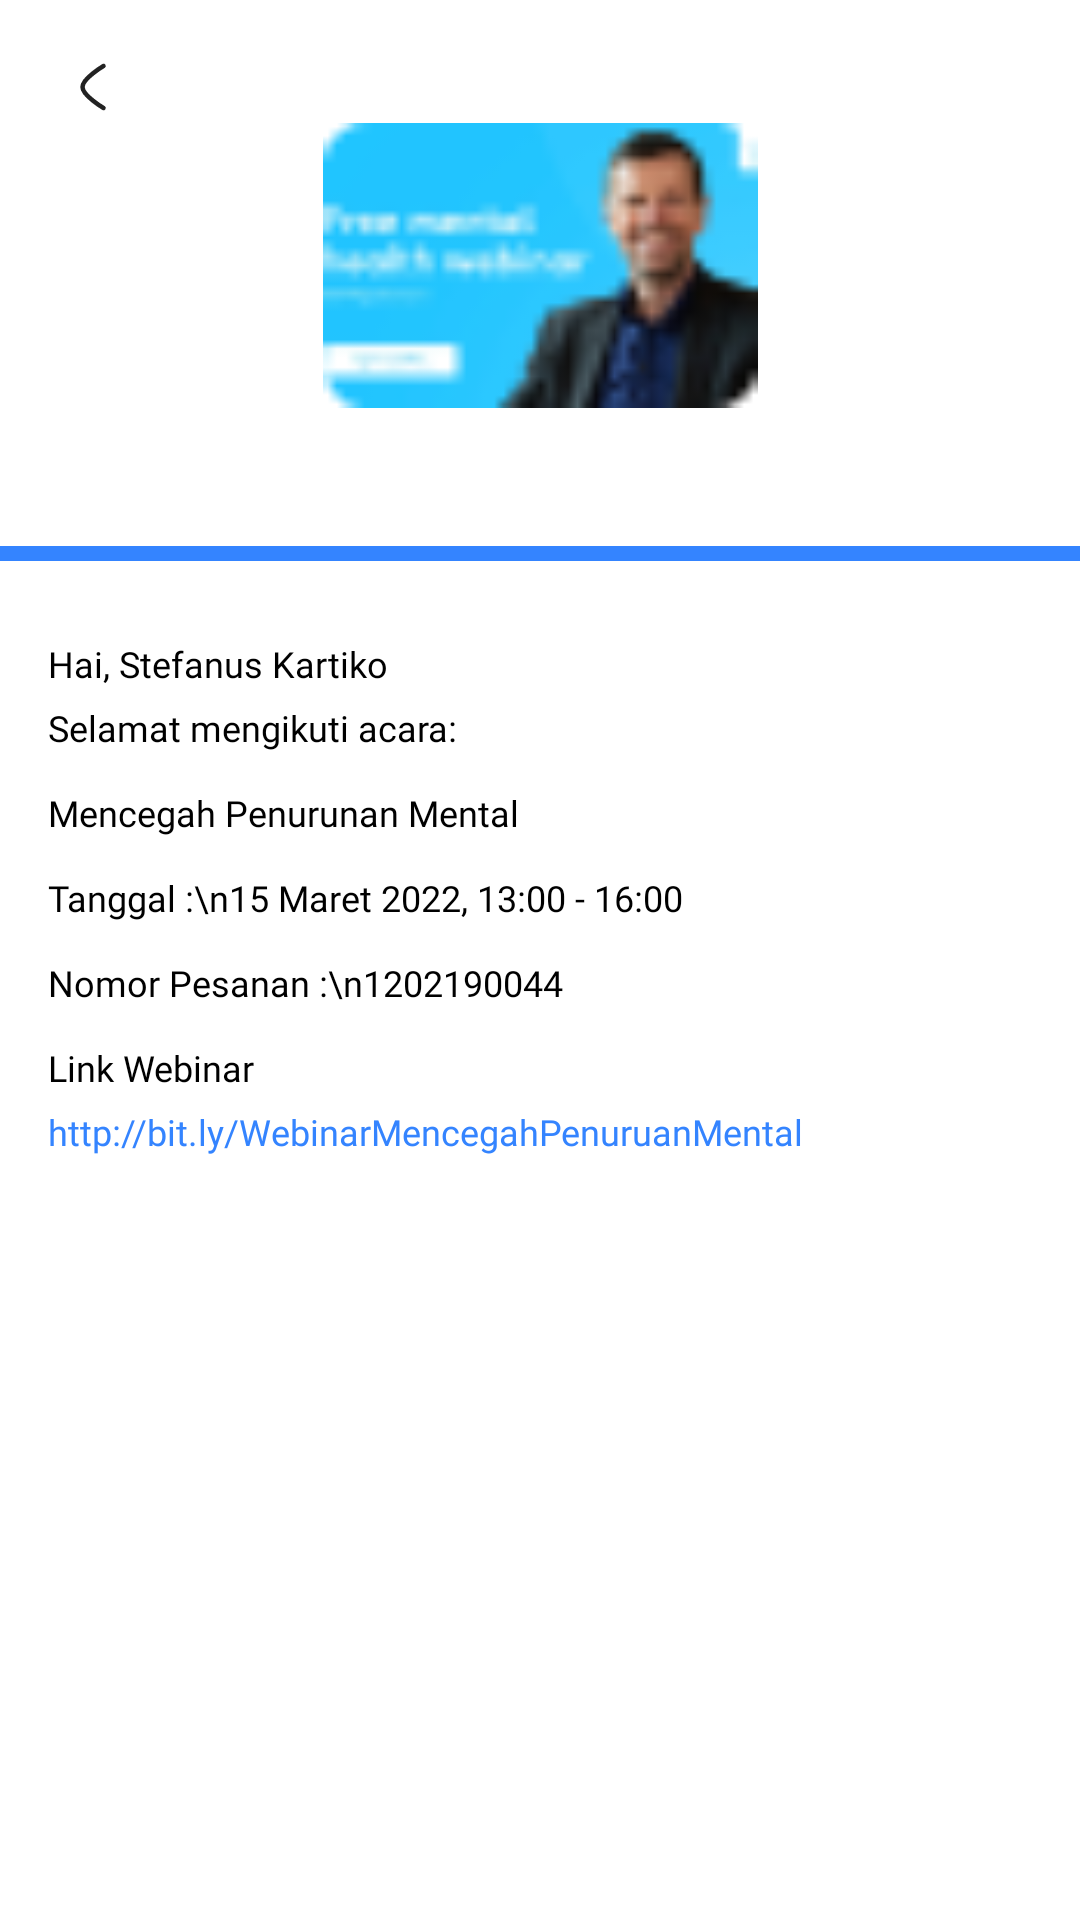

Screen size 1080*1920. Icon name, then its center in pixels as point (x, y):
back: point (93, 87)
